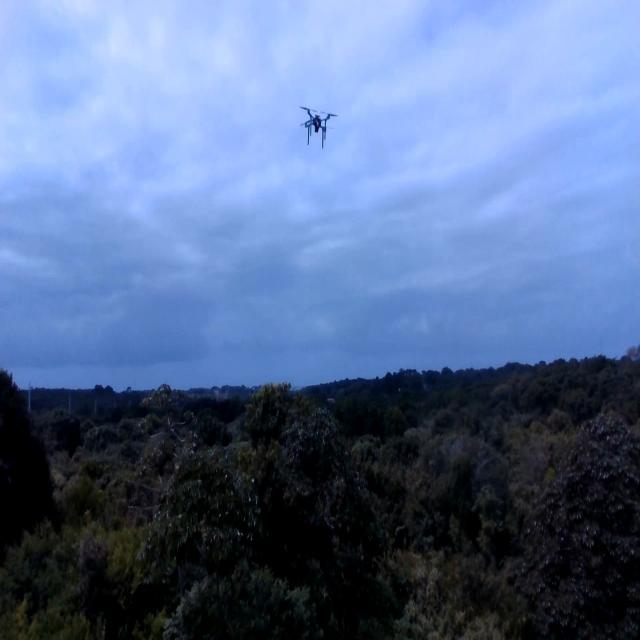-uav-: (293, 95, 343, 154)
